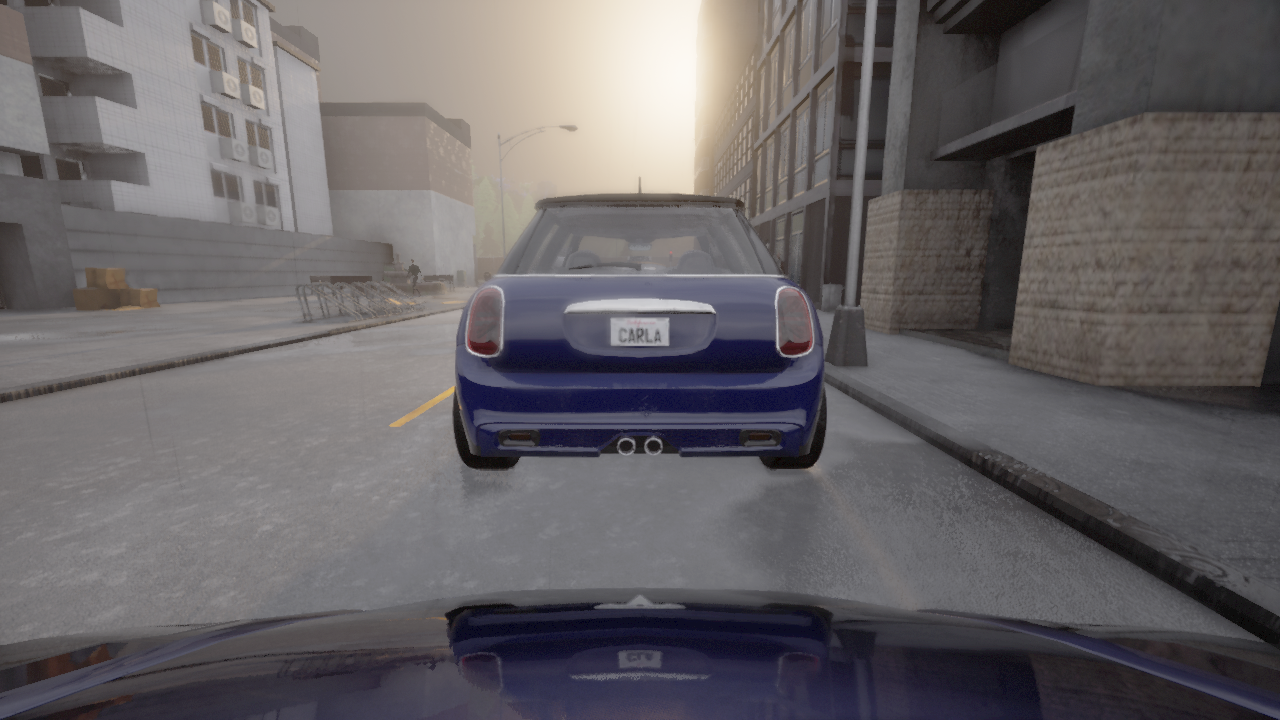cyclist: (0, 588, 1279, 719), (453, 177, 826, 468)
pedestrian: (406, 258, 423, 297), (775, 251, 786, 274)
